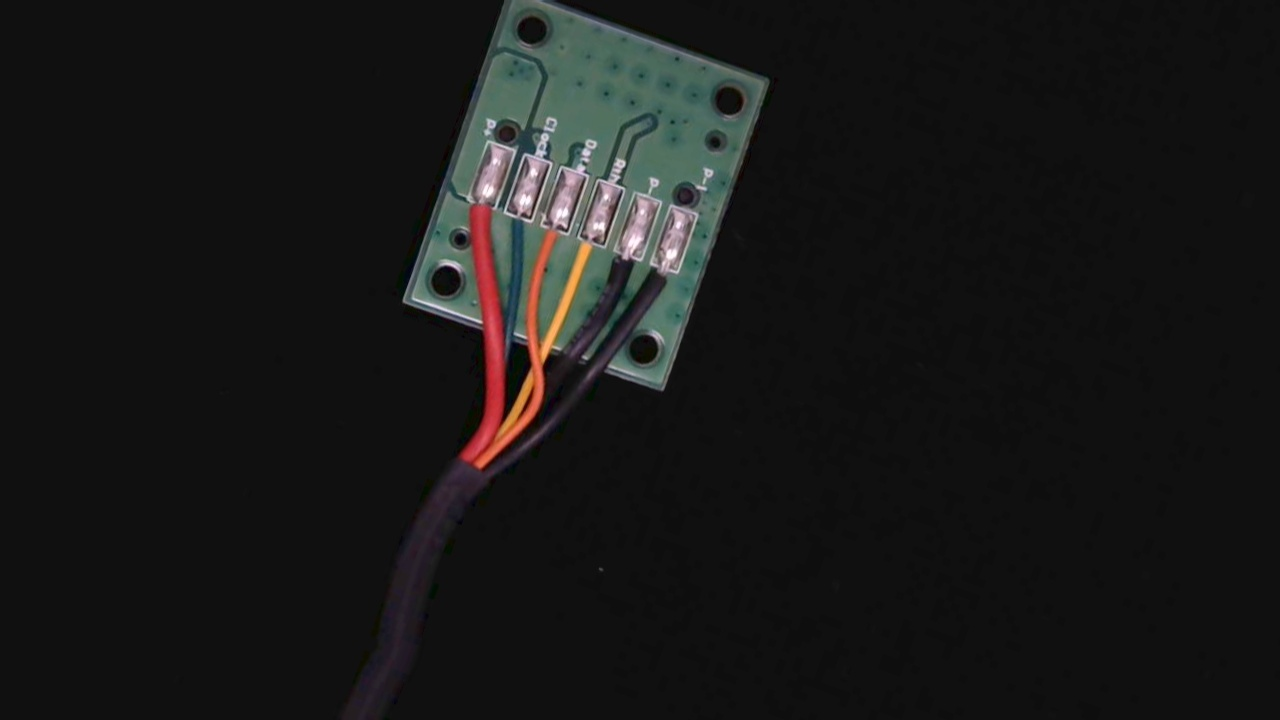Black: (591, 236, 648, 309)
Black1: (631, 249, 685, 323)
Green: (489, 196, 537, 261)
Orange: (523, 211, 573, 279)
Red: (450, 185, 501, 251)
Yellow: (557, 223, 610, 296)
